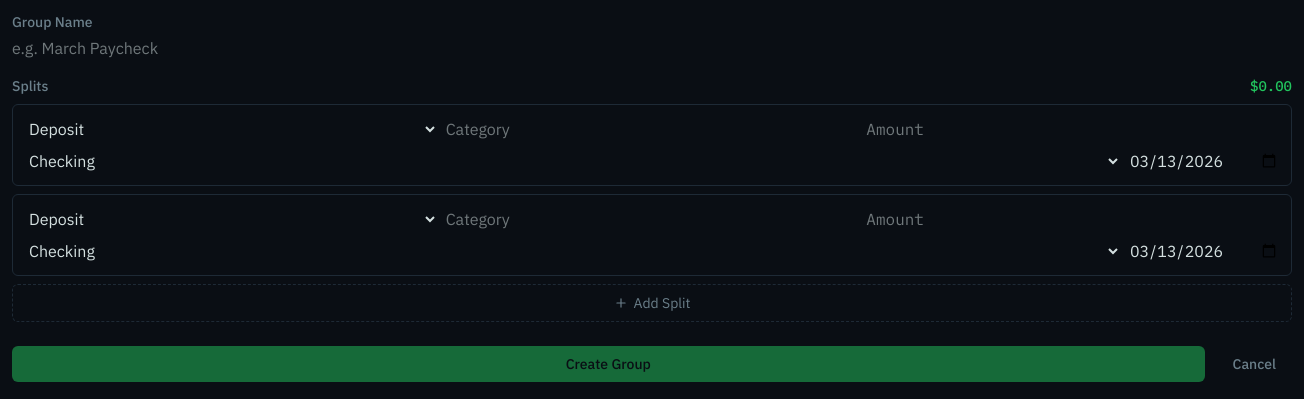
Test: TransactionGroupForm › shows total that auto-sums member amounts
In the 1st field with placeholder "Amount": (1073, 129) [866,117,1279,141], type "4000"
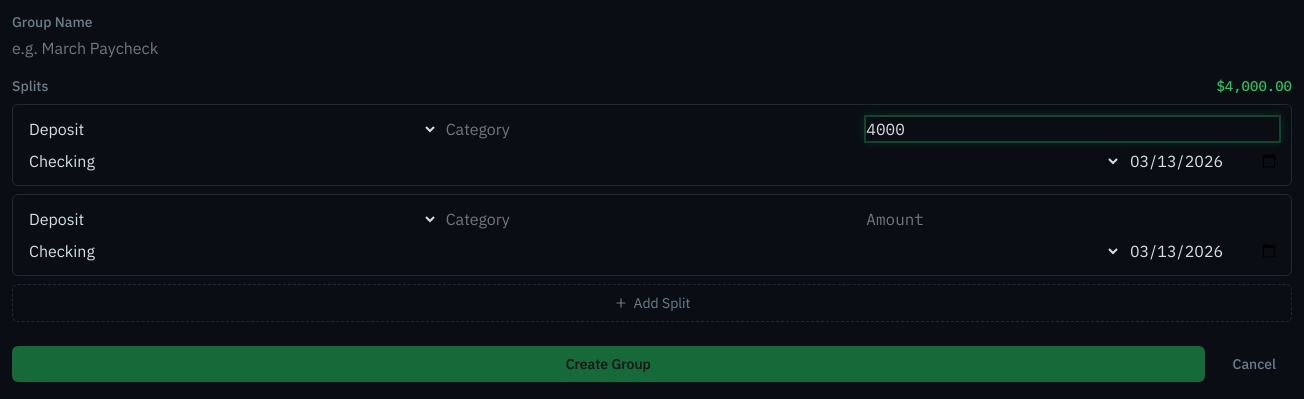
In the field with placeholder "Amount": (1073, 219) [866,207,1279,231], type "500"
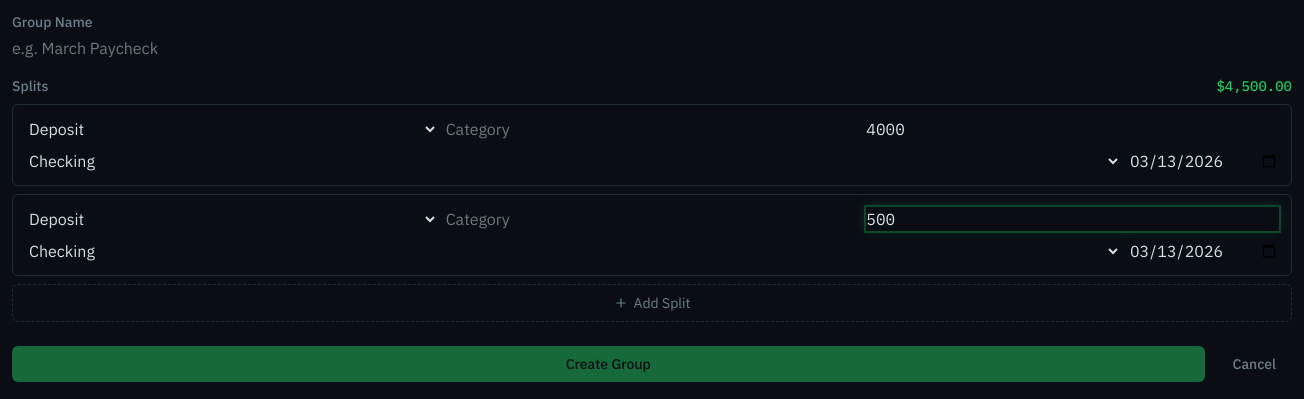
Expected: the text with test id "group-total" reads "$4,500.00", [1216,77,1292,95]
